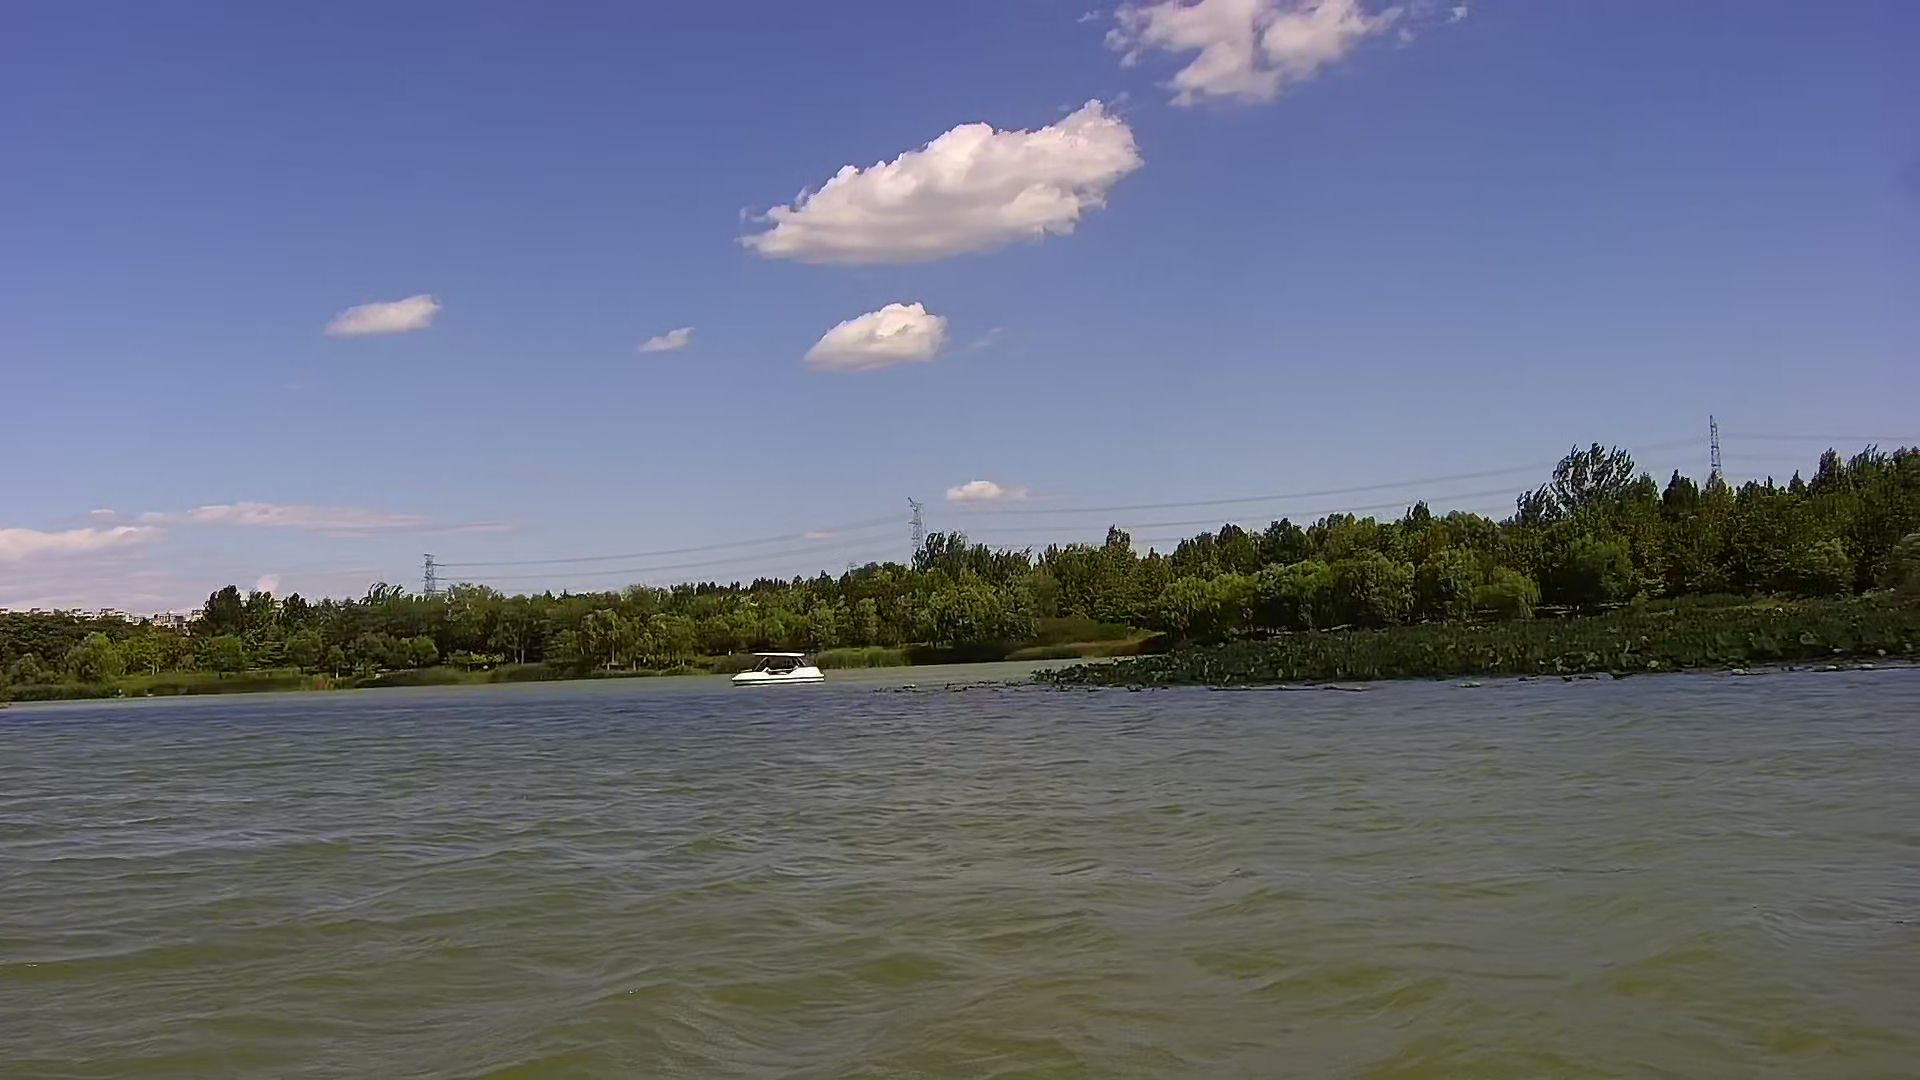boat: (731, 649, 823, 688)
